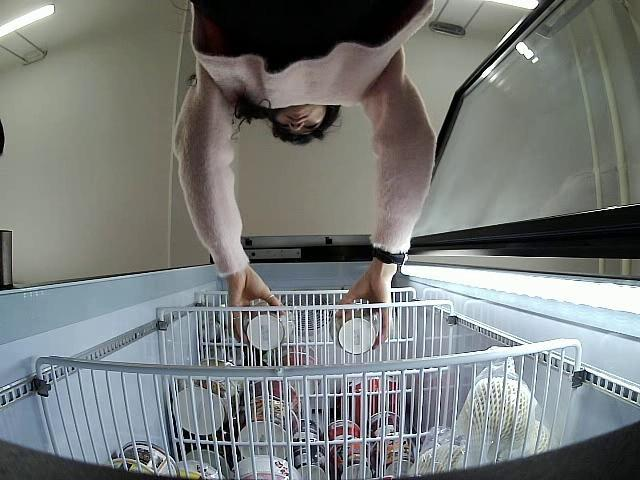04_chapagetti_S: (328, 300, 383, 356), (241, 302, 295, 353)
